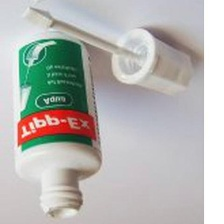correction_fluid: (10, 31, 106, 224)
